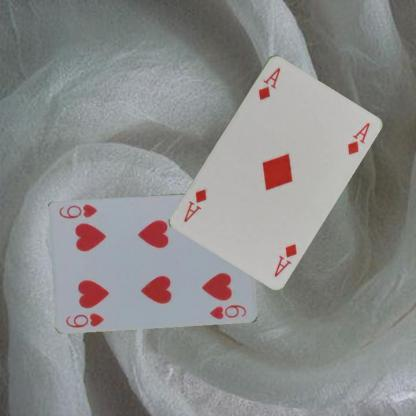6h: (63, 310, 106, 329)
Ad: (271, 240, 298, 278), (255, 64, 282, 101)
